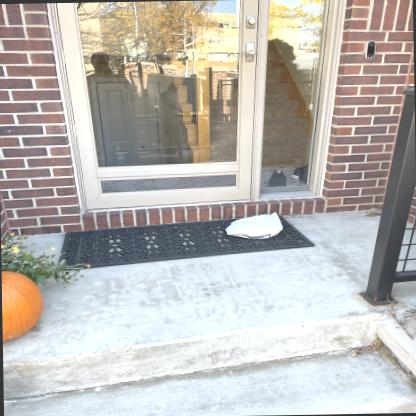plastic_bag: (225, 212, 283, 240)
